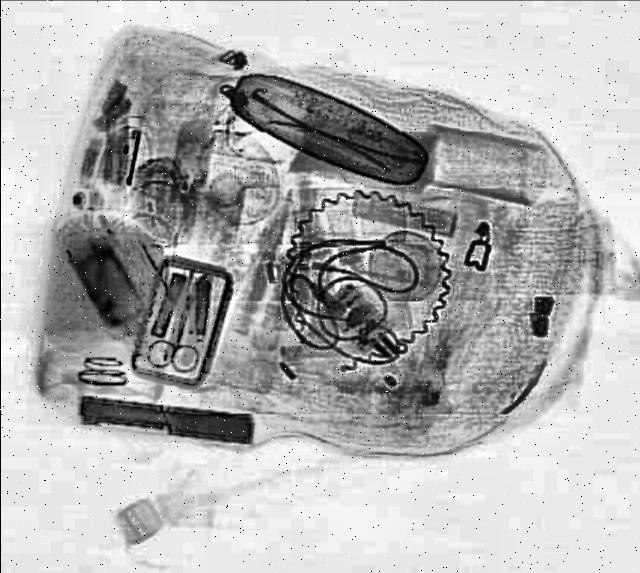Scissors: (144, 290, 220, 372)
